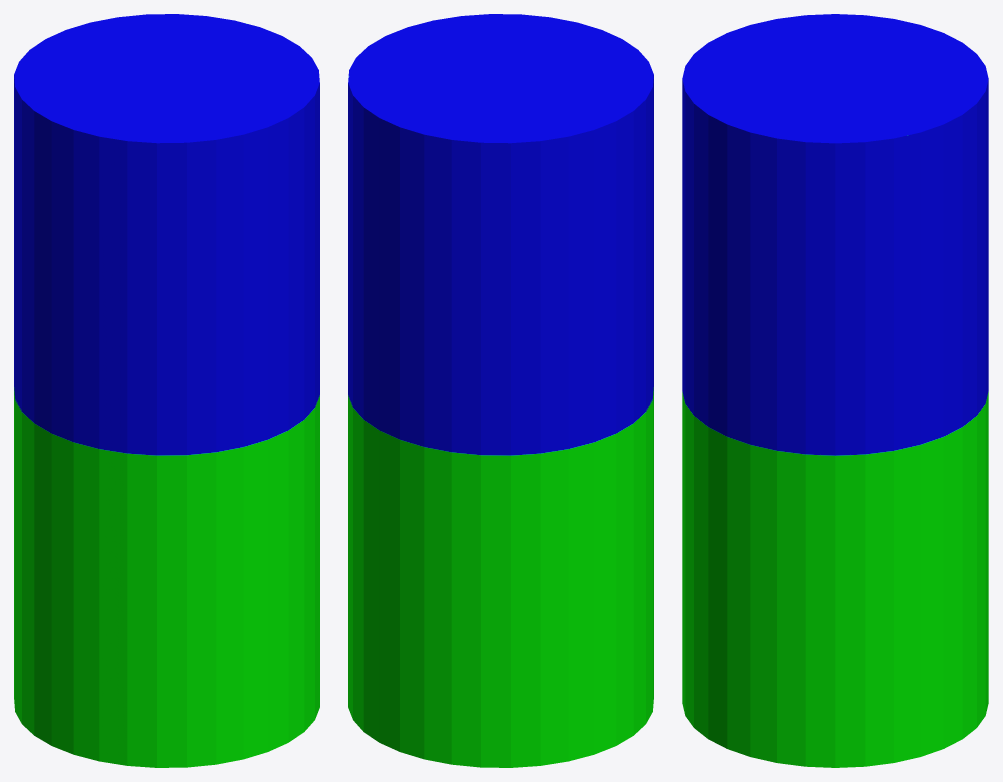
File: beacon4.obj
3 renders of one model, left to right at view 1: azimuth 30°, elevation 25°; view 2: azimuth 150°, elevation 25°; view 3: azimuth 270°, elevation 25°, orthographic.
Visible parts, largest first — view 1: beacon4; view 2: beacon4; view 3: beacon4.
Part boxes in pixels (box(x1,y1,x2,y2)): beacon4: box(14, 14, 319, 767); beacon4: box(348, 14, 653, 767); beacon4: box(682, 14, 988, 767).
Size of the model in its own units: 0.2 by 0.45 by 0.2.
Materials: 1 (1 with a texture image).
